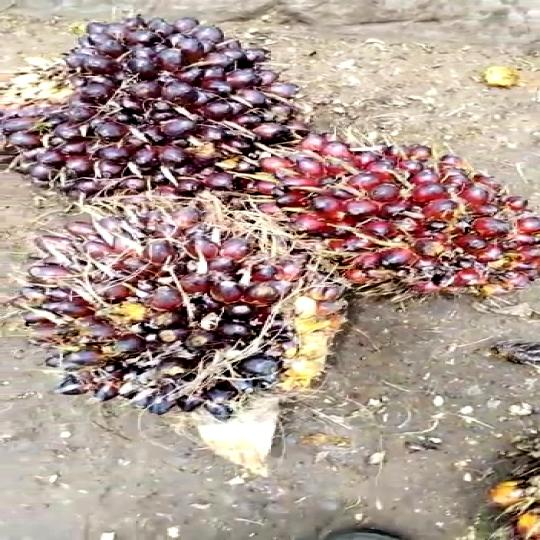kurang masak: (17, 215, 326, 441), (231, 136, 540, 302), (1, 21, 301, 191)
